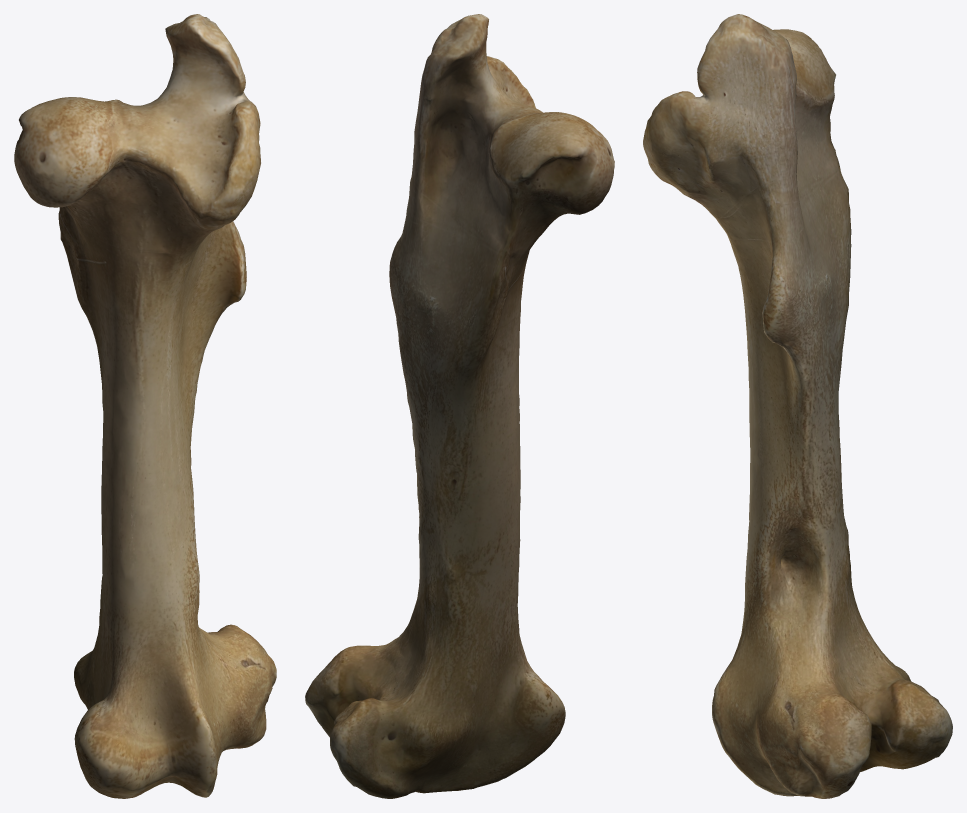
The model's file is fêmur-esquerda-equina.glb.
3 views of the same model, side by side, from view 1: azimuth 30°, elevation 25°; view 2: azimuth 150°, elevation 25°; view 3: azimuth 270°, elevation 25° (orthographic). The views are drawn at different scales.
Visible parts, largest first — view 1: 3DModel_LowPoly; view 2: 3DModel_LowPoly; view 3: 3DModel_LowPoly.
Part boxes in pixels (<box>): 3DModel_LowPoly: <box>14,14,276,798</box>; 3DModel_LowPoly: <box>305,14,614,798</box>; 3DModel_LowPoly: <box>643,14,952,798</box>.
Size of the model in its own units: 0.7087 by 1.92 by 0.7039.
1 material, 1 textured.
